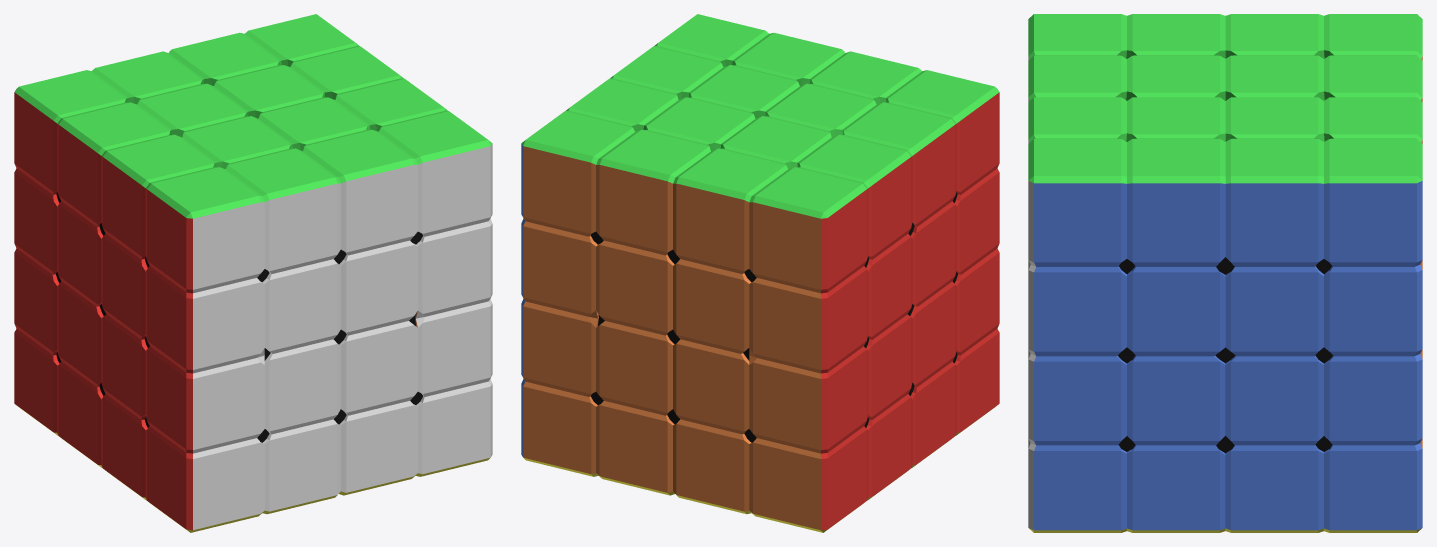
The model's file is Tripo_Cube.fbx.
The picture shows the model from 3 angles, left to right: view 1: azimuth 30°, elevation 25°; view 2: azimuth 150°, elevation 25°; view 3: azimuth 270°, elevation 25°; orthographic projection. The views are drawn at different scales.
Parts seen in each view (by area): view 1: Magic_Cube; view 2: Magic_Cube; view 3: Magic_Cube.
Boxes of the visible parts, box(x1,y1,x2,y2) form: Magic_Cube: box(14, 14, 492, 532); Magic_Cube: box(521, 14, 999, 532); Magic_Cube: box(1028, 14, 1422, 532).
Bounding box in the file's own units: 0.4995 × 0.4995 × 0.4995.
